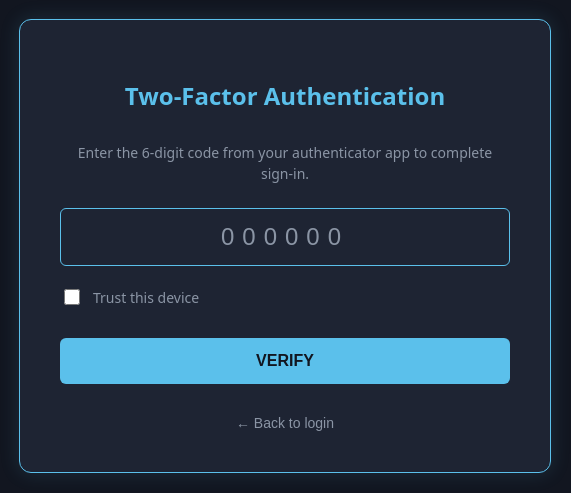
Test: LoginVerify Component › limits code input to 6 digits
The width and height of the screenshot is (571, 493).
Type "12345678" into the field with placeholder "000000" at coordinates (285, 238), box [60, 208, 510, 266]
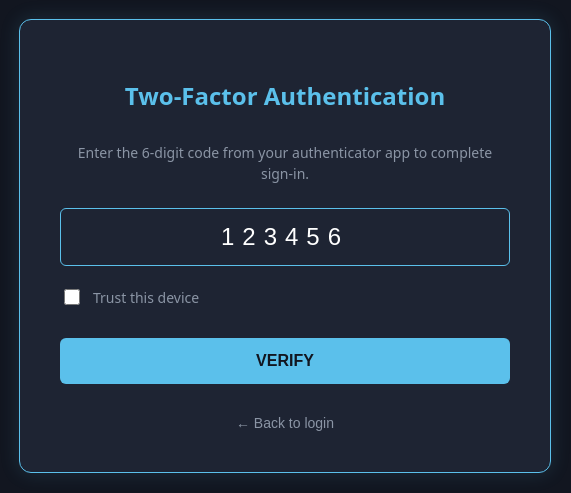
Expected: the field with placeholder "000000" holds "123456", [60, 208, 510, 266]
